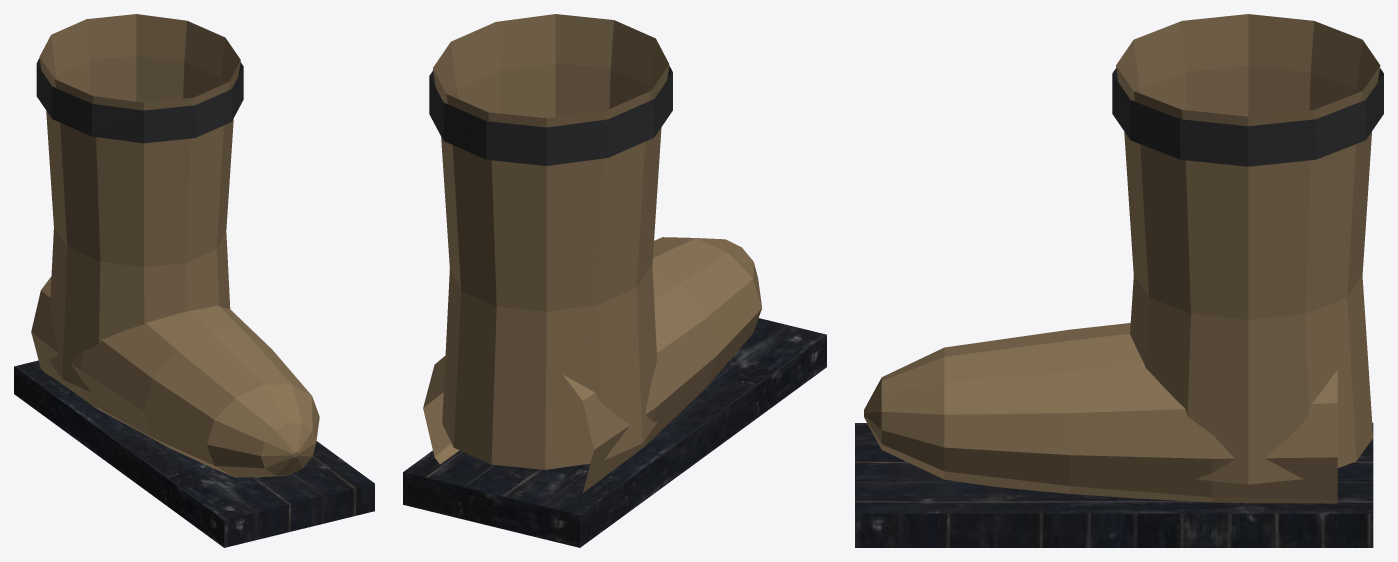
The model's file is eq_present_2_boot.glb.
3 views of the same model, side by side, from view 1: azimuth 30°, elevation 25°; view 2: azimuth 150°, elevation 25°; view 3: azimuth 270°, elevation 25° (orthographic). The views are drawn at different scales.
Parts seen in each view (by area): view 1: eq_present_2_boot; view 2: eq_present_2_boot; view 3: eq_present_2_boot.
Part boxes in pixels (x1=…): eq_present_2_boot: x1=14, y1=14, x2=374, y2=547; eq_present_2_boot: x1=403, y1=14, x2=826, y2=547; eq_present_2_boot: x1=855, y1=14, x2=1383, y2=547.
Size of the model in its own units: 0.1456 by 0.286 by 0.3078.
3 materials, 3 textured.
